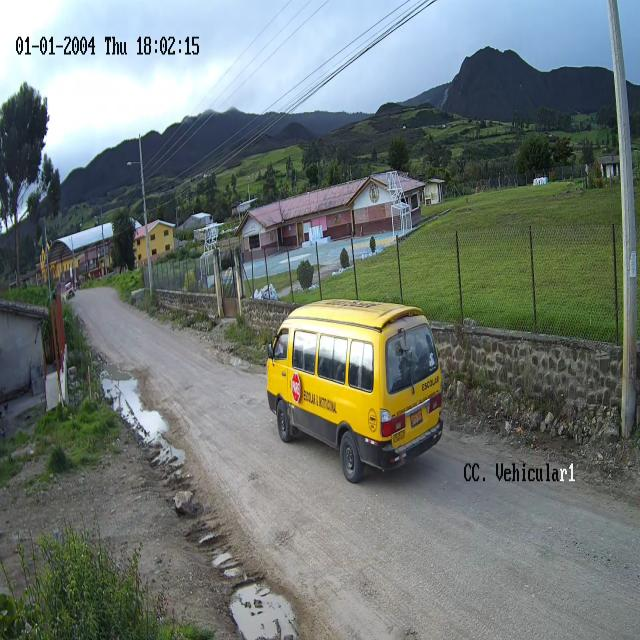BUS: (266, 300, 444, 485)
